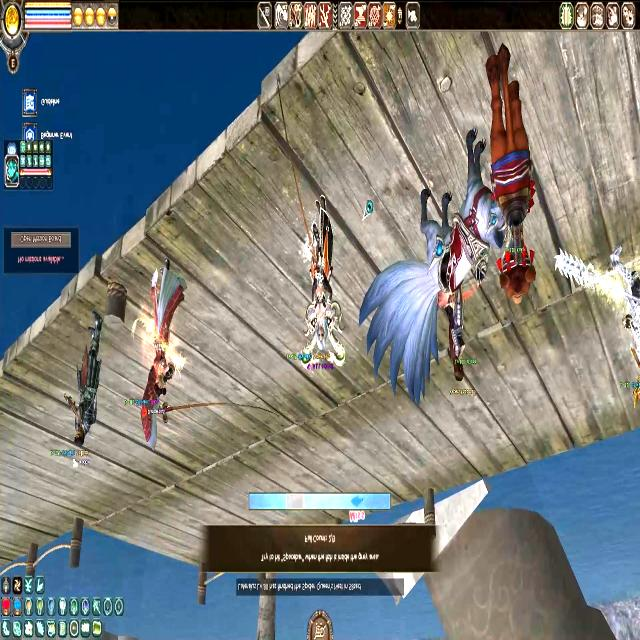fishes: (350, 495, 363, 509)
